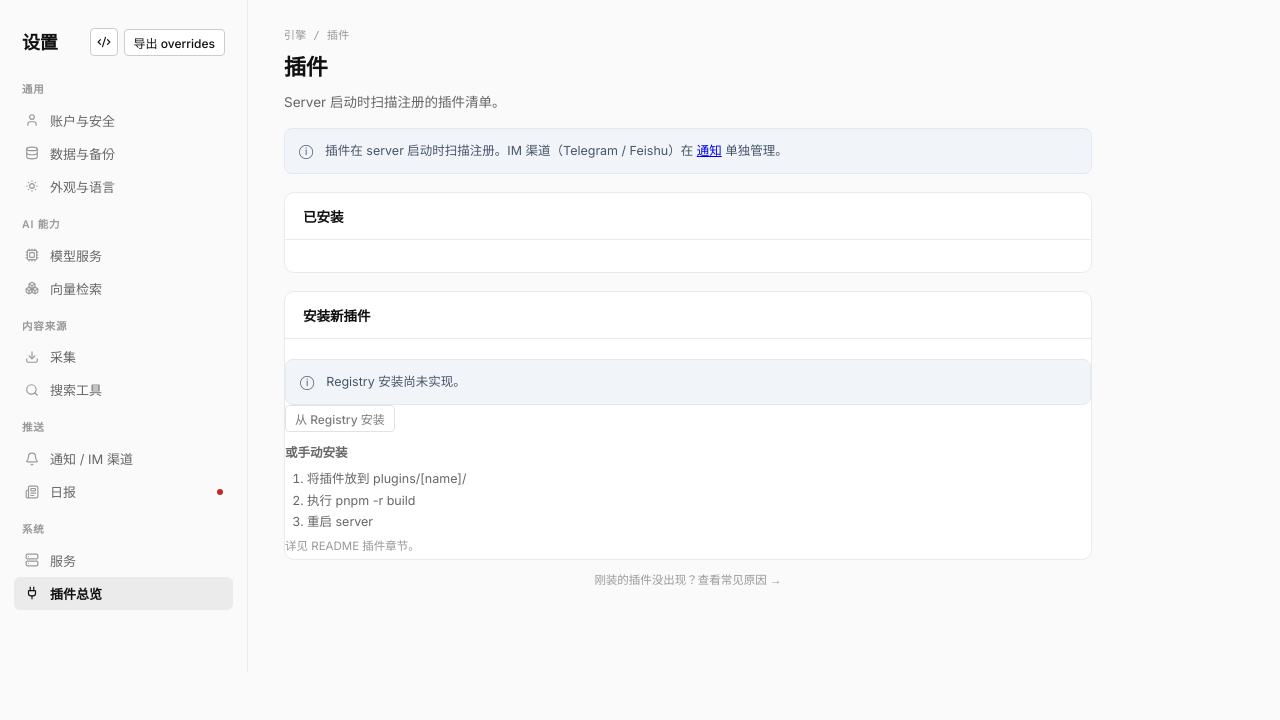
Test case: SettingsShell · auto-commit flow › auto-commit thrown error surfaces err.message in danger toast
The width and height of the screenshot is (1280, 720).
Click the button "外观与语言". click: (124, 186)
box: [14, 170, 233, 203]
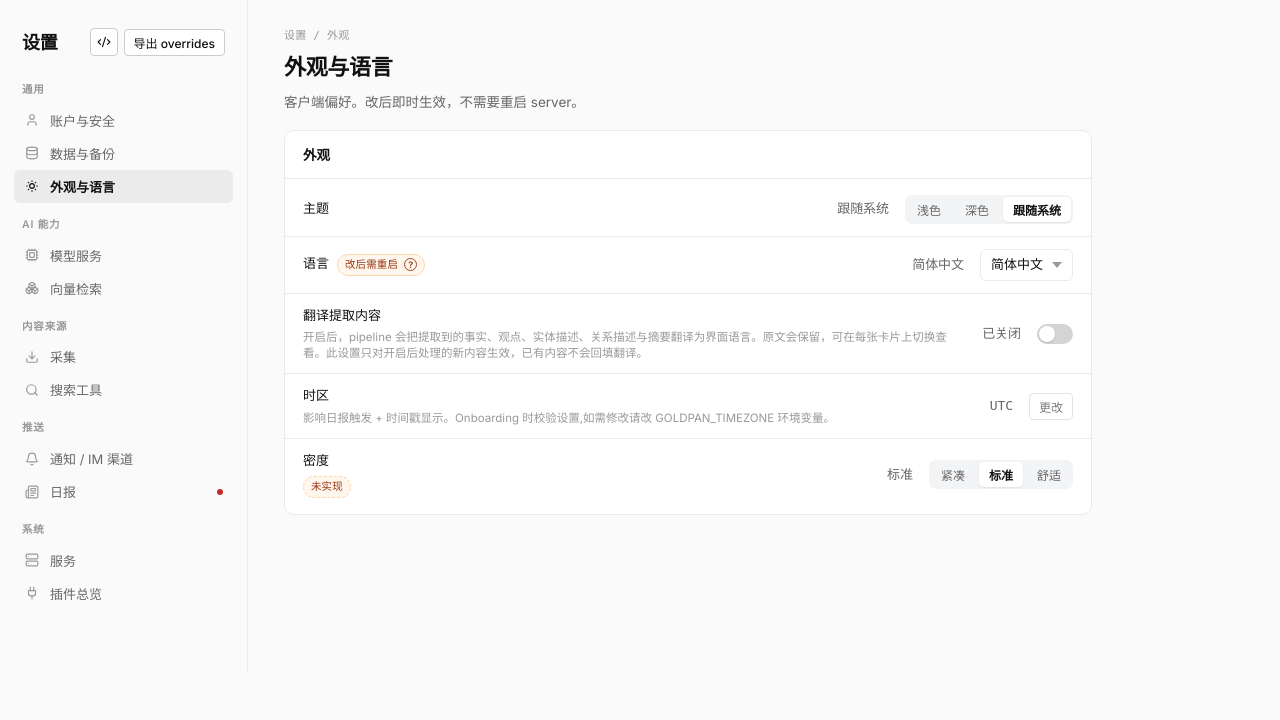
Select "English" in the dropdown. click: (1026, 265)
box: [980, 249, 1073, 281]
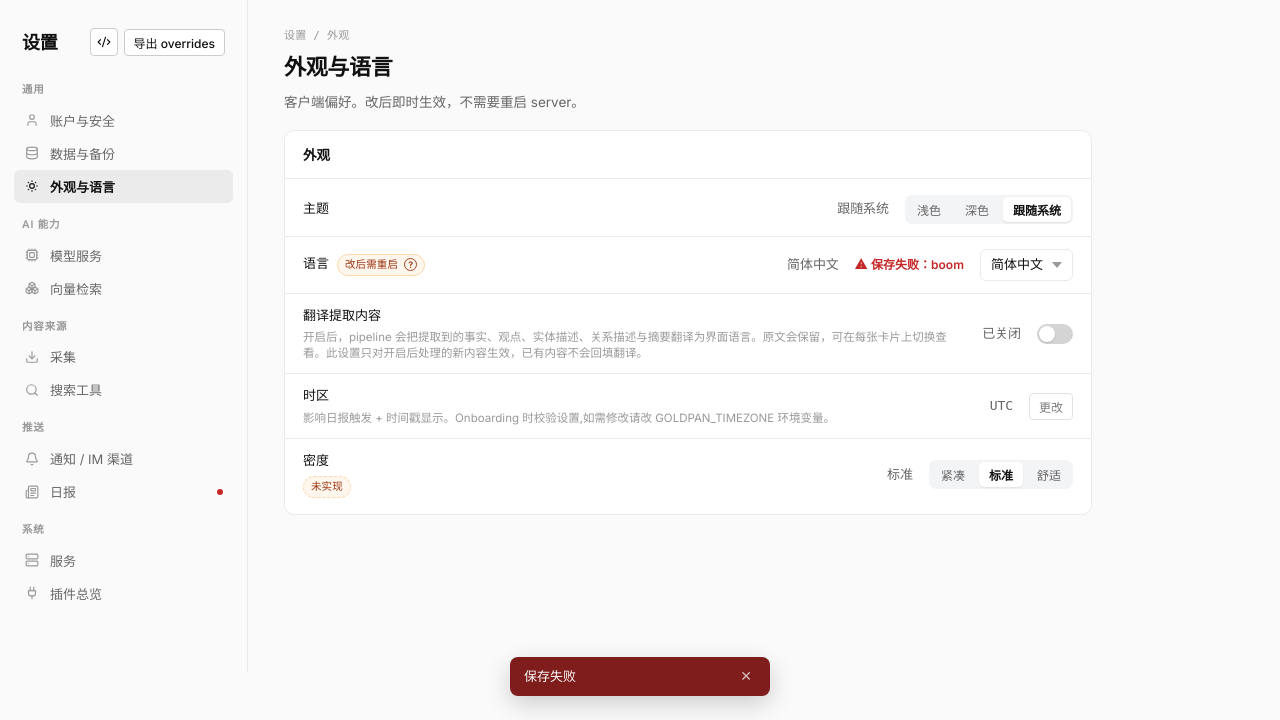
Expected: the text "保存失败" is shown, [524, 668, 576, 684]
